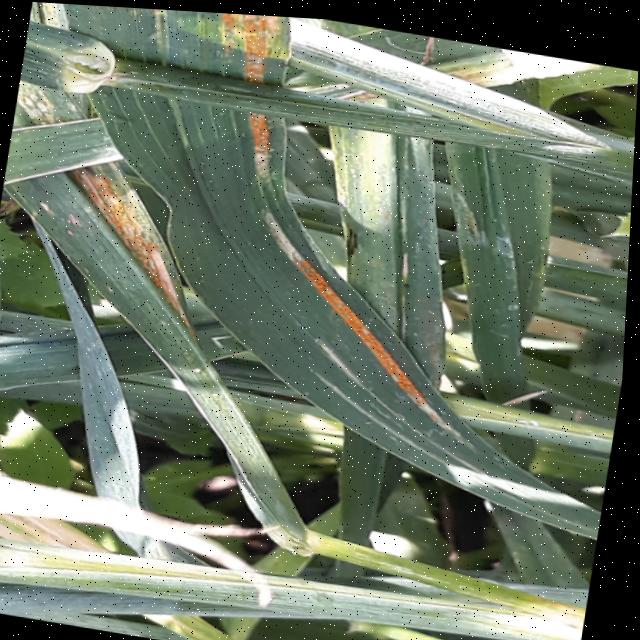yellow_rust: (0, 0, 296, 365), (244, 154, 505, 462)
